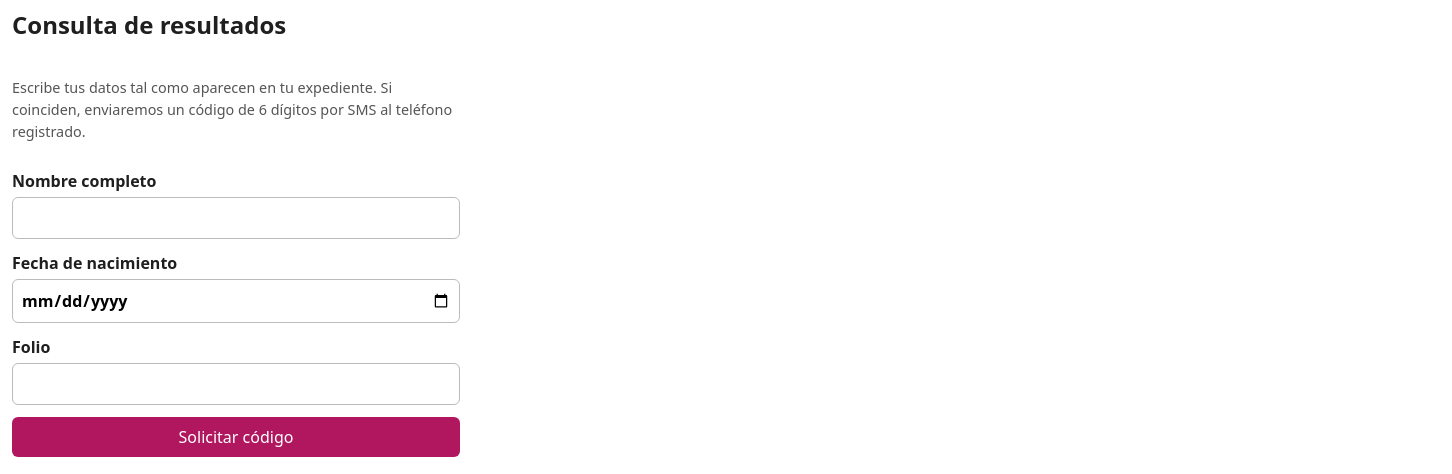
it: PatientPortal › sin demoPin no muestra código, y un PIN incorrecto muestra el error genérico
This screenshot has width=1452, height=474.
Type "Ana Prueba Sintética" into the field labelled "Nombre completo" at point(236, 218), box [12,196,460,238]
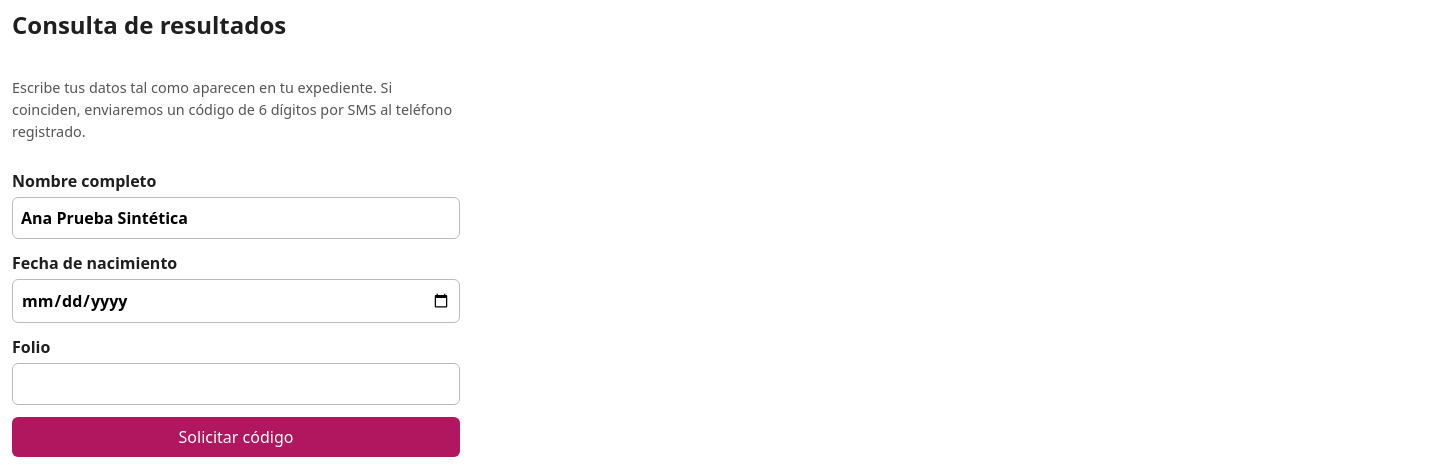
Type "1985-03-14" into the date field labelled "Fecha de nacimiento" at point(236, 300), box [12,278,460,322]
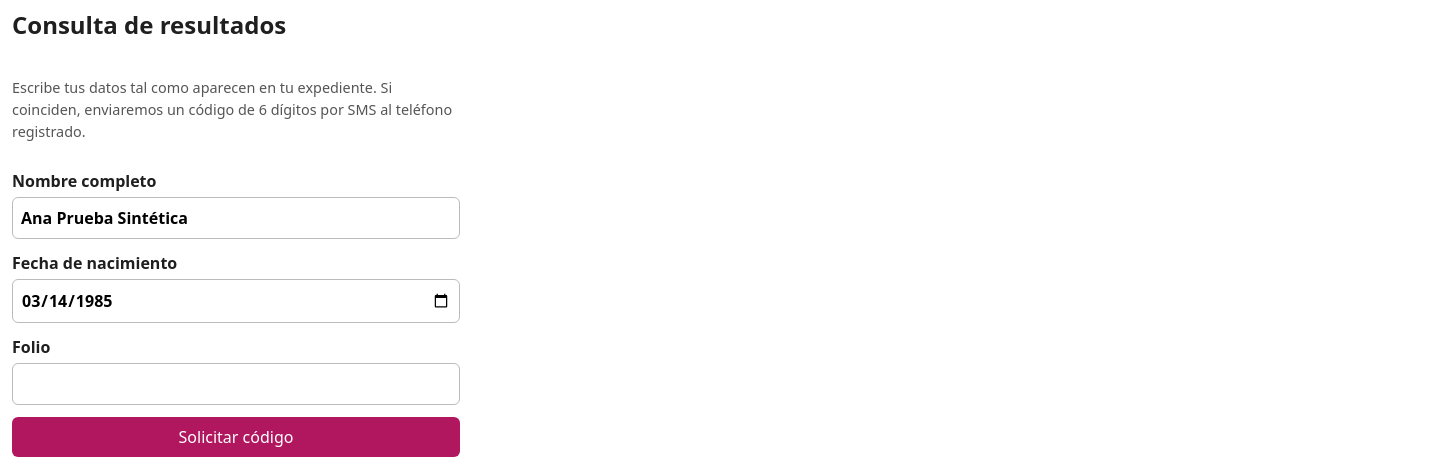
Type "SINT-0001" into the field labelled "Folio" at point(236, 384), box [12,362,460,404]
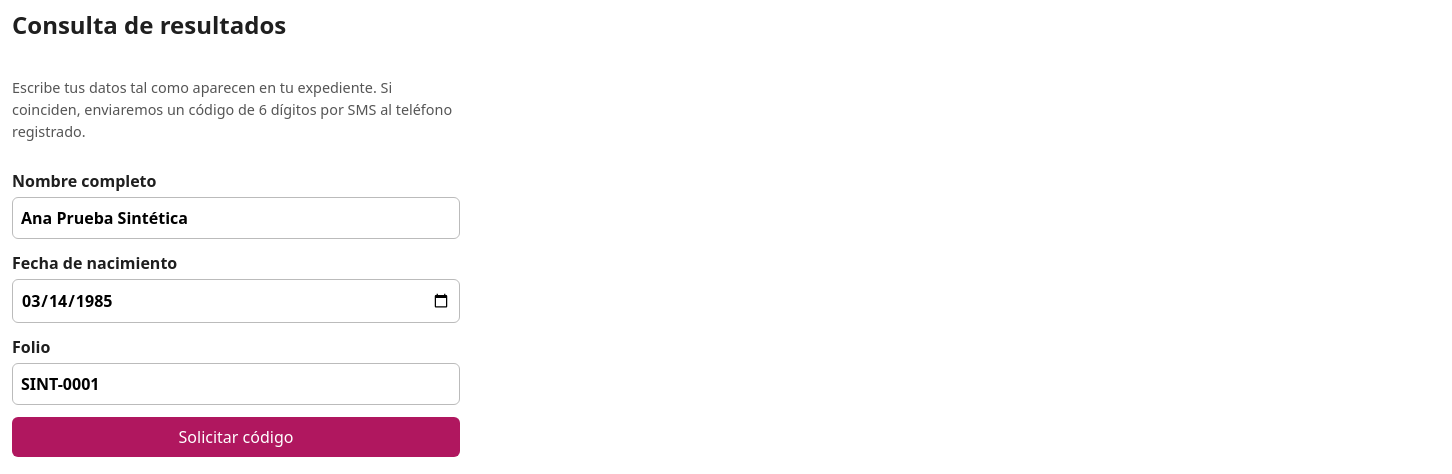
Click the button "Solicitar código" at point(236, 436), box [12,416,460,456]
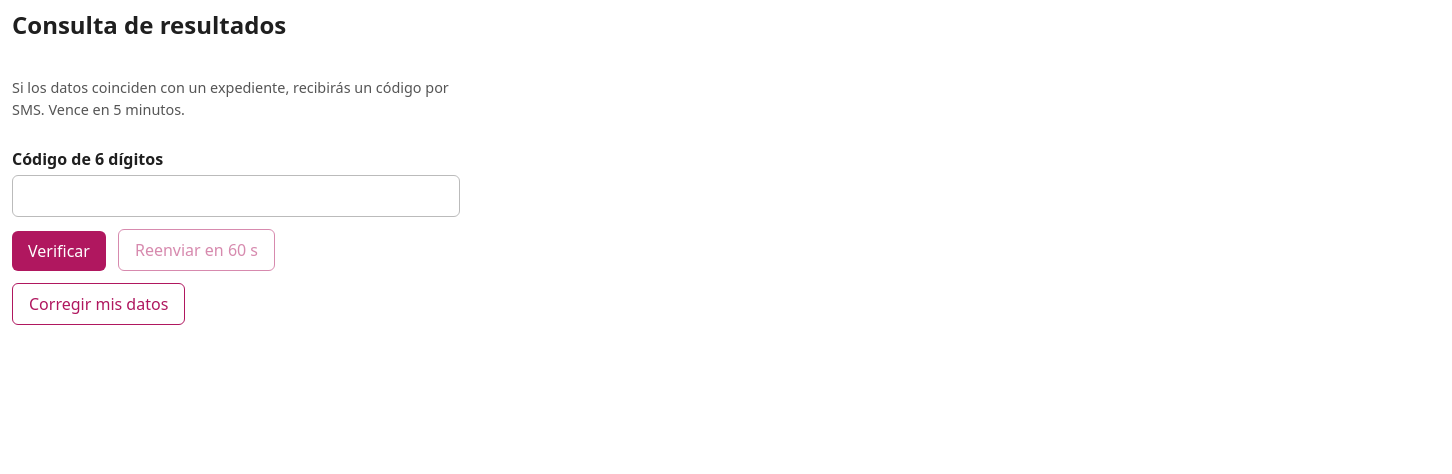
Expected: the field labelled "Código de 6 dígitos" is shown
Type "000000" into the field labelled "Código de 6 dígitos" at point(236, 196), box [12,175,460,217]
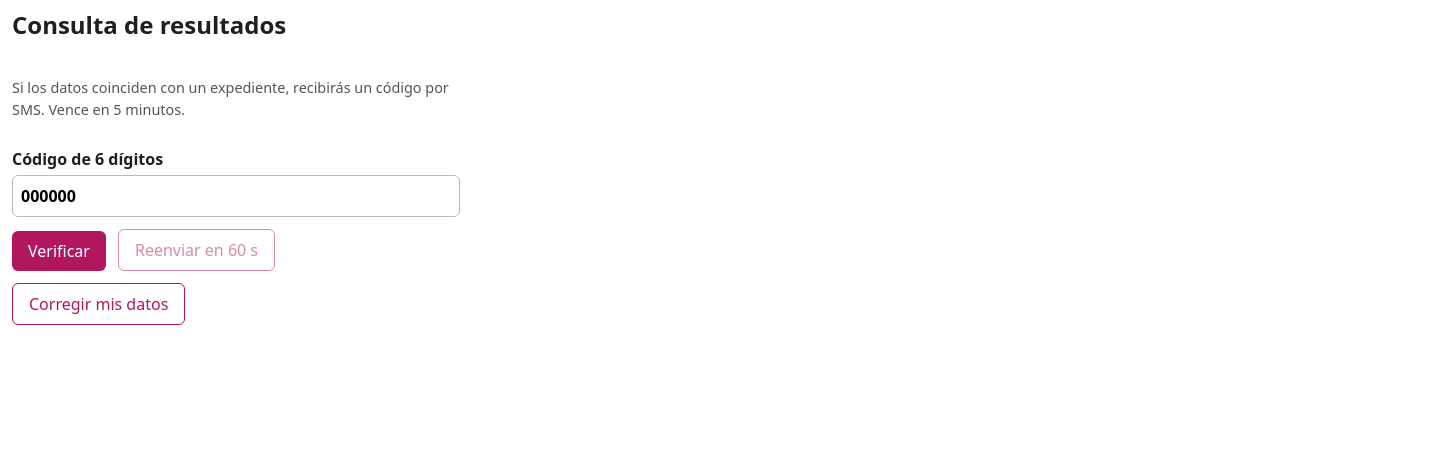
Click the button "Verificar" at point(59, 251), box [12,231,106,271]
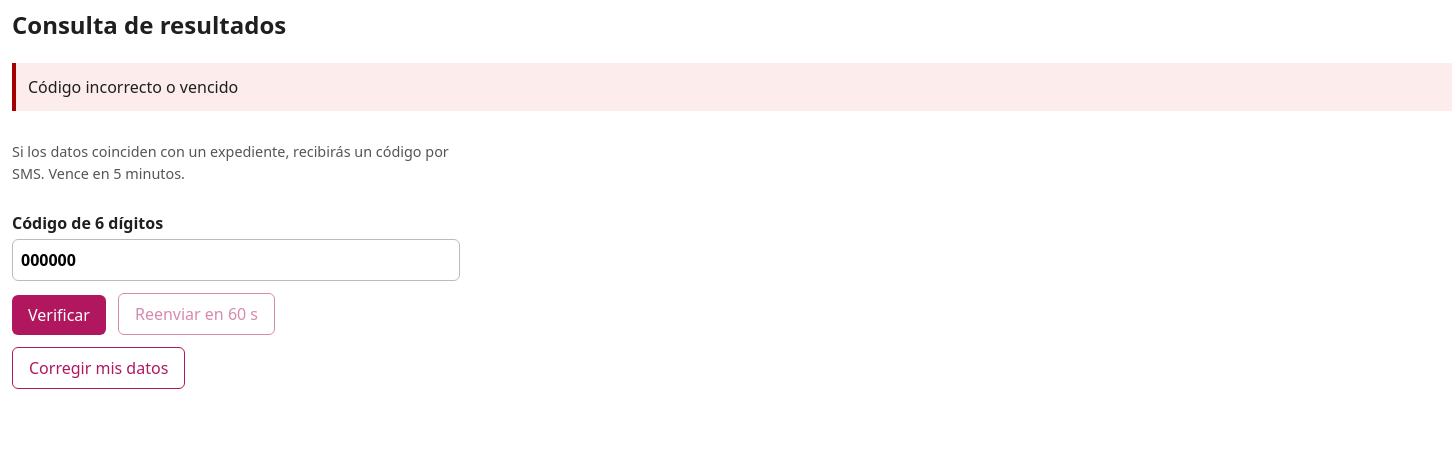
Expected: the message reads "Código incorrecto o vencido", [28,76,238,98]
